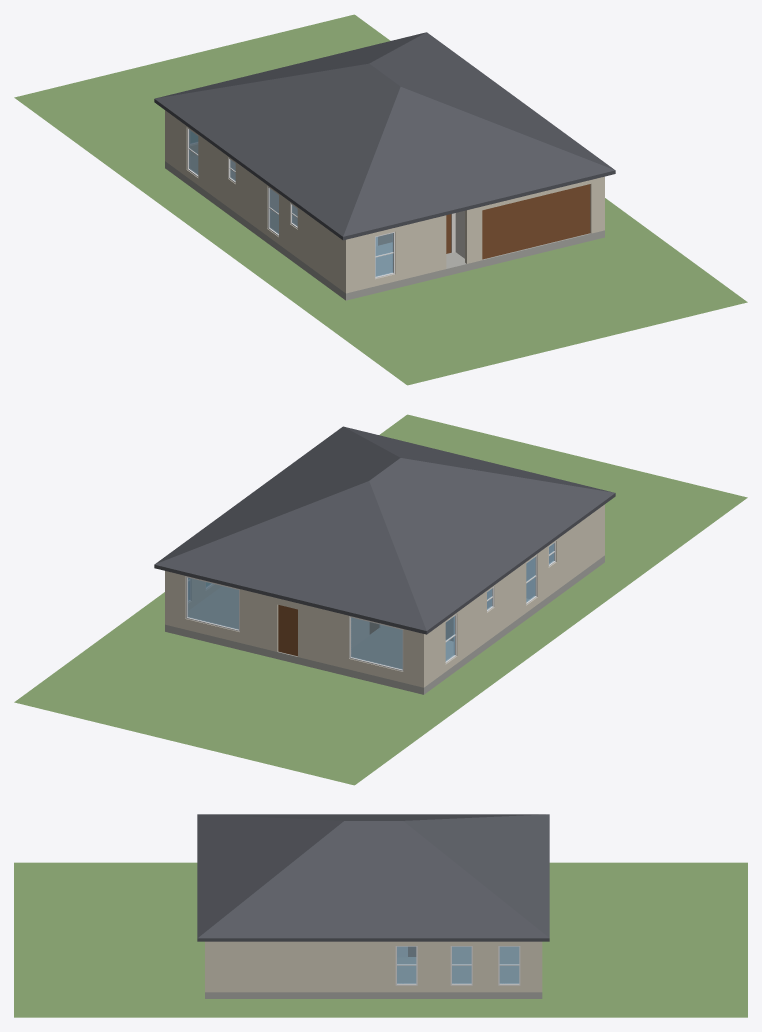
The picture shows the model from 3 angles, top to bottom: view 1: azimuth 30°, elevation 25°; view 2: azimuth 150°, elevation 25°; view 3: azimuth 270°, elevation 25°; orthographic projection. The views are drawn at different scales.
Parts seen in each view (by area): view 1: SITE, ROOF, ext-left, ext-front, GD, SLAB-L1, N01; view 2: SITE, ROOF, ext-back, ext-left, SLAB-L1, S02, S01, D13; view 3: SITE, ROOF, ext-right, SLAB-L1, N08, N07, N10.
Part boxes in pixels (left/top/right/bottom): SITE: left=14, top=14, right=747, bottom=385; ROOF: left=154, top=32, right=615, bottom=240; ext-left: left=167, top=112, right=343, bottom=291; ext-front: left=344, top=176, right=604, bottom=293; GD: left=482, top=184, right=590, bottom=259; SLAB-L1: left=165, top=155, right=604, bottom=300; N01: left=375, top=233, right=393, bottom=276; SITE: left=14, top=414, right=747, bottom=785; ROOF: left=154, top=426, right=615, bottom=634; ext-back: left=165, top=571, right=425, bottom=687; ext-left: left=426, top=506, right=602, bottom=685; SLAB-L1: left=165, top=555, right=604, bottom=694; S02: left=187, top=577, right=238, bottom=629; S01: left=351, top=617, right=402, bottom=669; D13: left=278, top=605, right=297, bottom=656; SITE: left=14, top=862, right=747, bottom=1017; ROOF: left=197, top=814, right=549, bottom=941; ext-right: left=208, top=941, right=538, bottom=992; SLAB-L1: left=205, top=947, right=542, bottom=998; N08: left=499, top=946, right=519, bottom=983; N07: left=452, top=946, right=471, bottom=983; N10: left=397, top=946, right=416, bottom=983.
Bounding box in the file's own units: 15.24 × 5.46 × 30.48.
